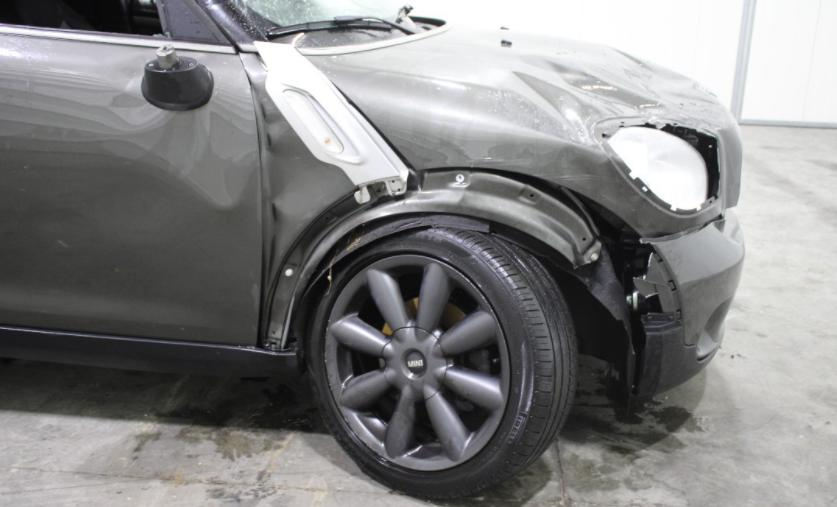Fender: (244, 41, 642, 403)
Front-bumper: (634, 213, 745, 401)
Front-door: (0, 0, 265, 351)
Front-wheel: (305, 230, 578, 500)
Front-window: (1, 3, 164, 38)
Headlight: (604, 118, 719, 214)
Hood: (304, 16, 742, 240)
Mirror: (143, 47, 210, 110)
Rocker-panel: (2, 325, 301, 380)
Windshield: (232, 0, 407, 38)
